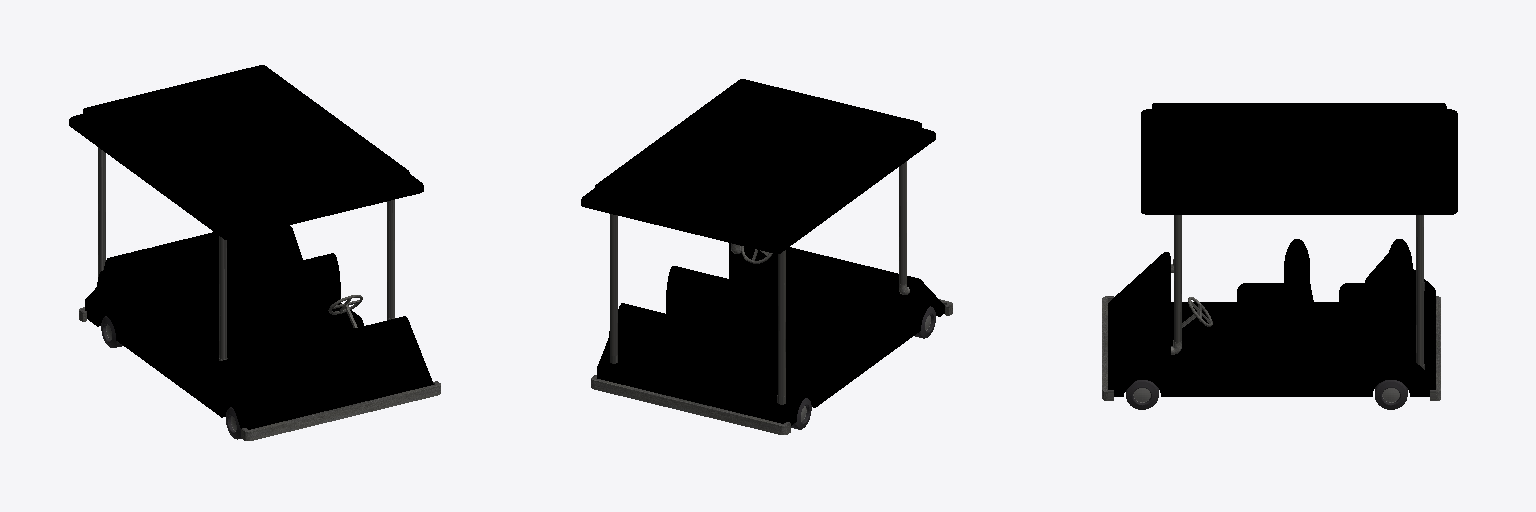
3 renders of one model, left to right at view 1: azimuth 30°, elevation 25°; view 2: azimuth 150°, elevation 25°; view 3: azimuth 270°, elevation 25°, orthographic.
Size of the model in its own units: 4.33 by 4.55 by 6.66.
4 materials, 2 textured.